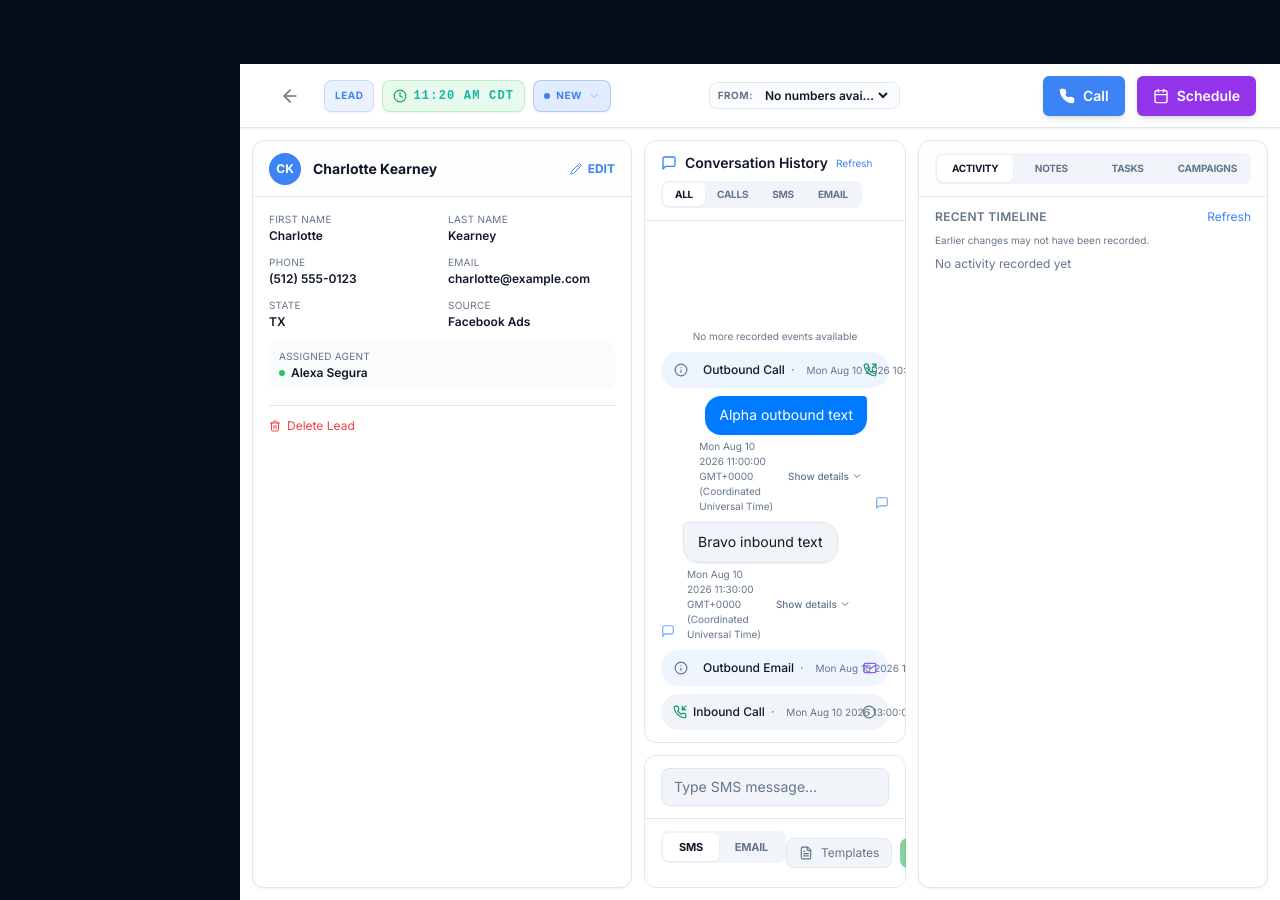
Scenario: B/C. endpoint details › SMS details show actual From/To/direction/status and toggle aria-expanded
Expected: the text "Alpha outbound text" is shown, [719,404,853,427]
Note: sms-1 (outbound, delivered) — DOM is newest-first so it is the second SMS.
Click the button with aria-label "SMS details" at (826,476), box [788,469,863,484]
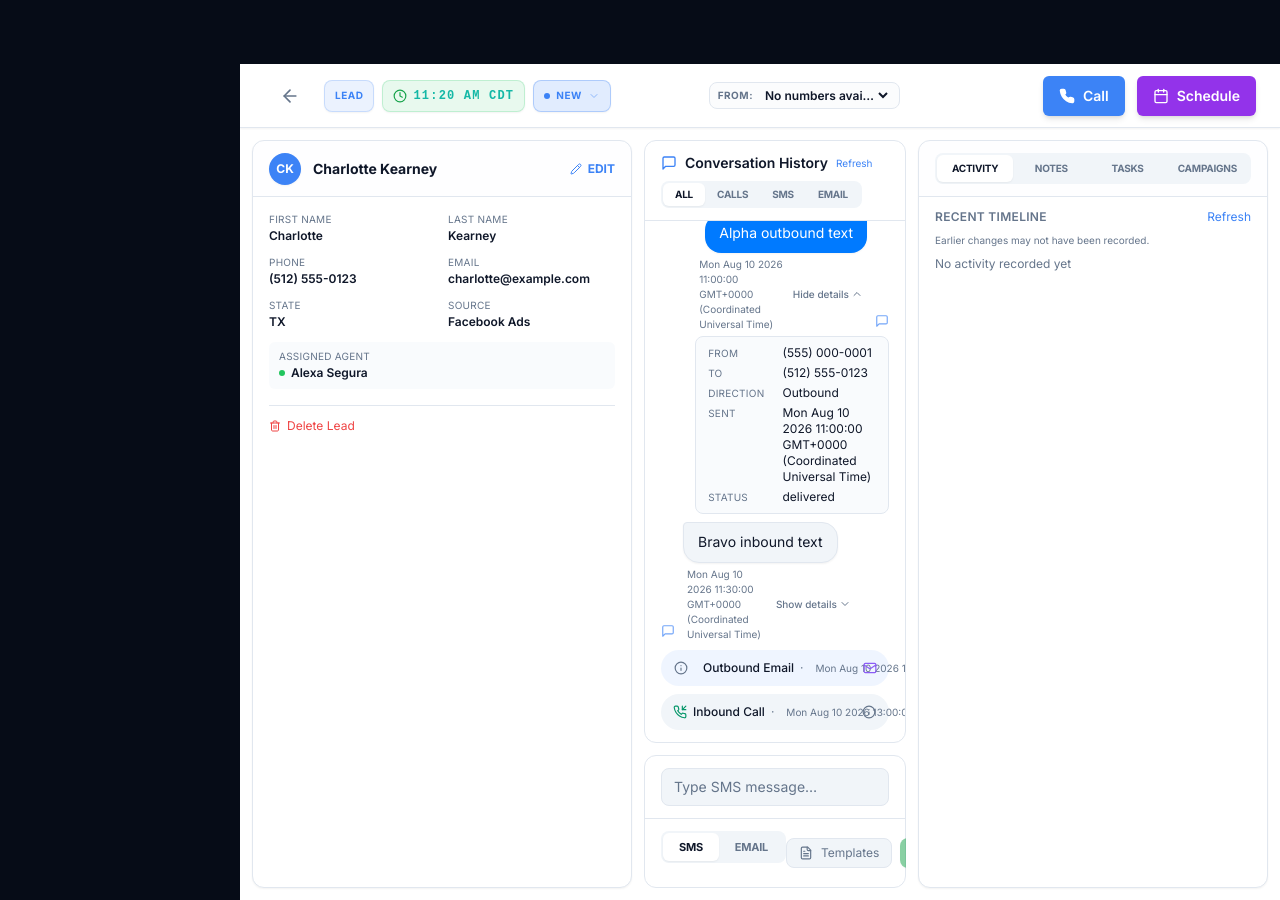
Now the button with aria-label "SMS details" is expanded
Now the text "(555) 000-0001" is shown, box [782,345,876,361]
Now the text "(512) 555-0123" below "(555) 000-0001" is shown, box [782,365,868,380]
Click the button with aria-label "SMS details" at (828,294), box [793,287,863,302]
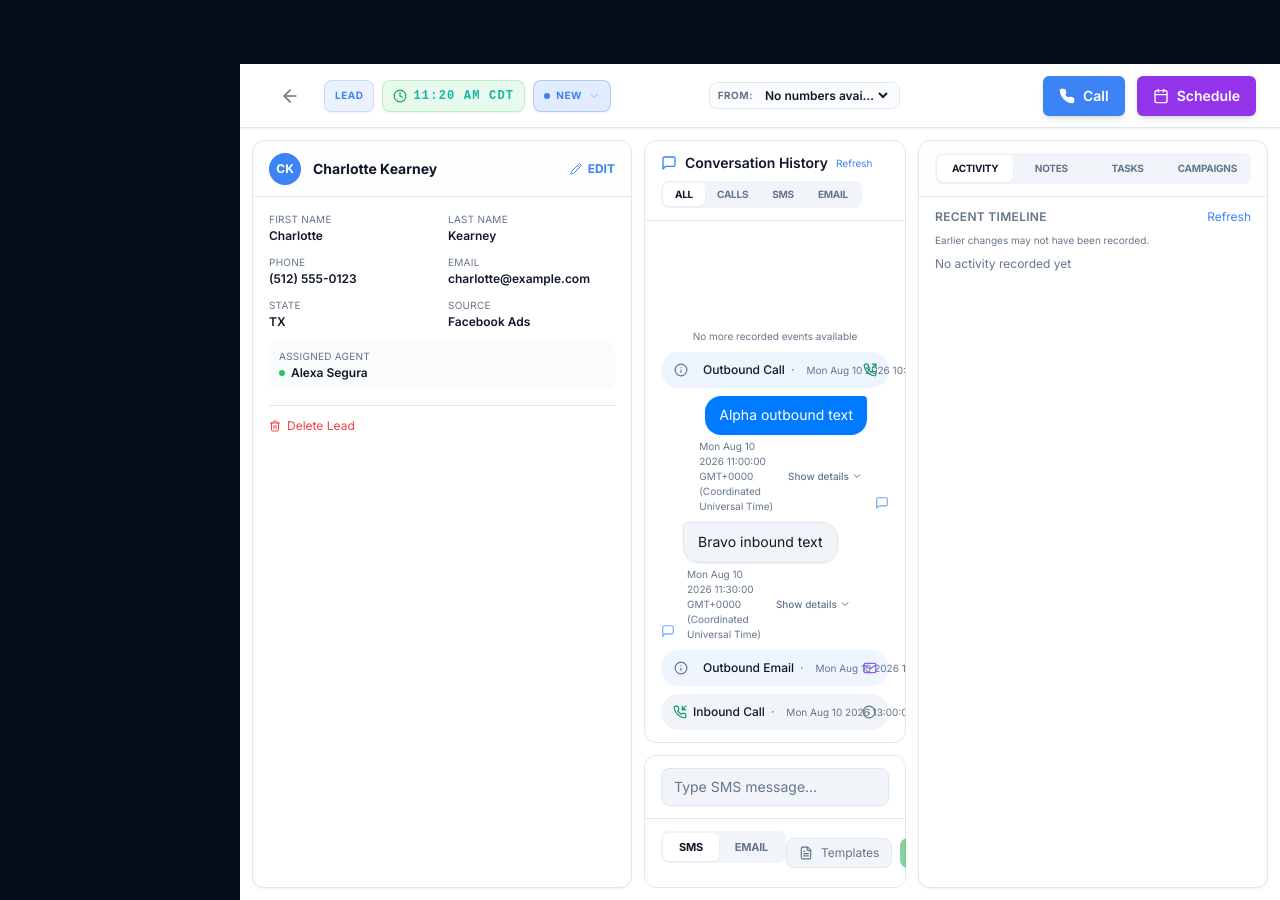
Now the button with aria-label "SMS details" is collapsed, box [788,469,863,484]
